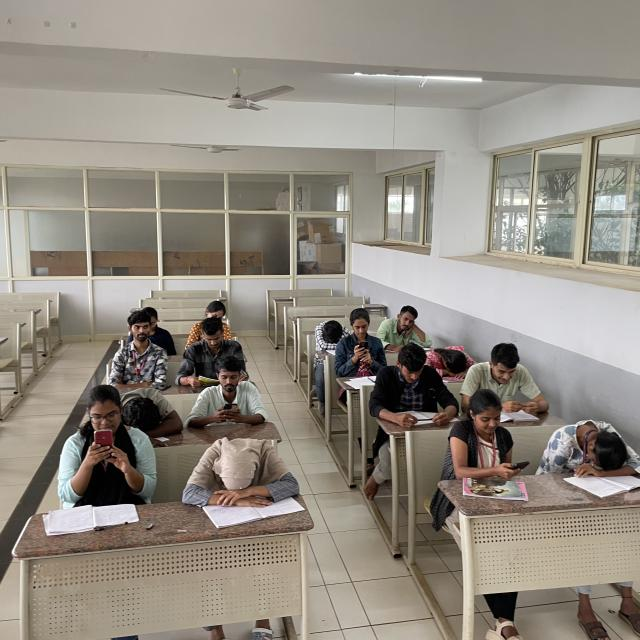Reading: (375, 343, 457, 418), (470, 342, 546, 421), (175, 323, 248, 391)
Sleeping: (184, 432, 297, 507), (542, 419, 640, 476), (121, 386, 185, 441), (426, 342, 474, 379), (313, 313, 357, 352)
Using Phone: (66, 385, 142, 501), (453, 392, 527, 478), (190, 364, 266, 427), (336, 306, 387, 380)
Writing: (378, 303, 433, 355)
